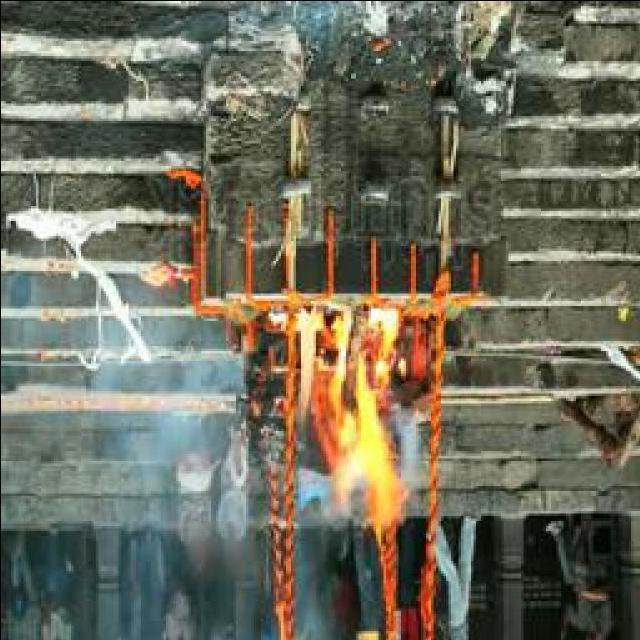Fire: (274, 299, 407, 531)
